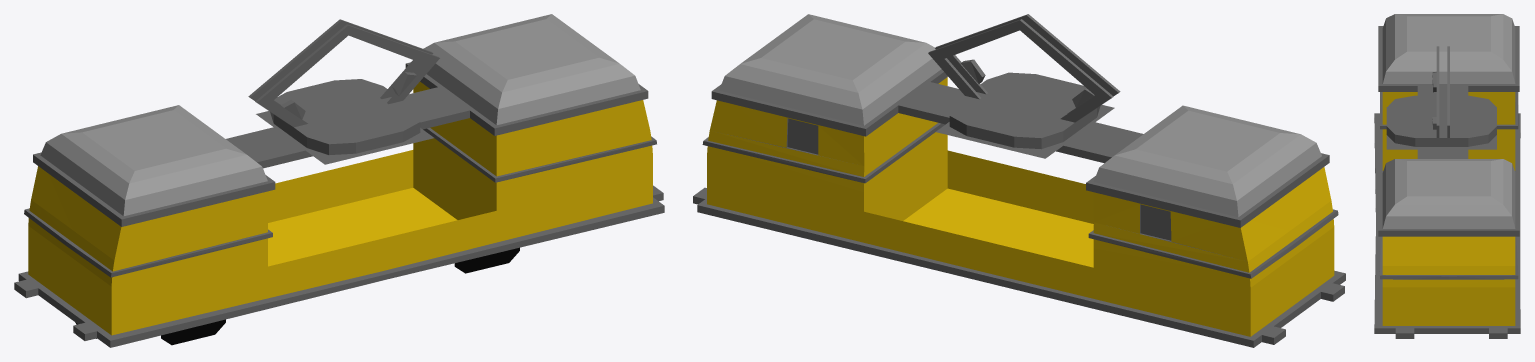
Rendered from Locomotive.fbx.
3 renders of one model, left to right at view 1: azimuth 30°, elevation 25°; view 2: azimuth 150°, elevation 25°; view 3: azimuth 270°, elevation 25°, orthographic. The views are drawn at different scales.
Parts seen in each view (by area): view 1: Cube.018; view 2: Cube.018; view 3: Cube.018.
Boxes of the visible parts, box(x1,y1,x2,y2) form: Cube.018: box(14, 14, 664, 347); Cube.018: box(693, 14, 1345, 347); Cube.018: box(1374, 14, 1520, 338).
Bounding box in the file's own units: 2075 × 975 × 570.
